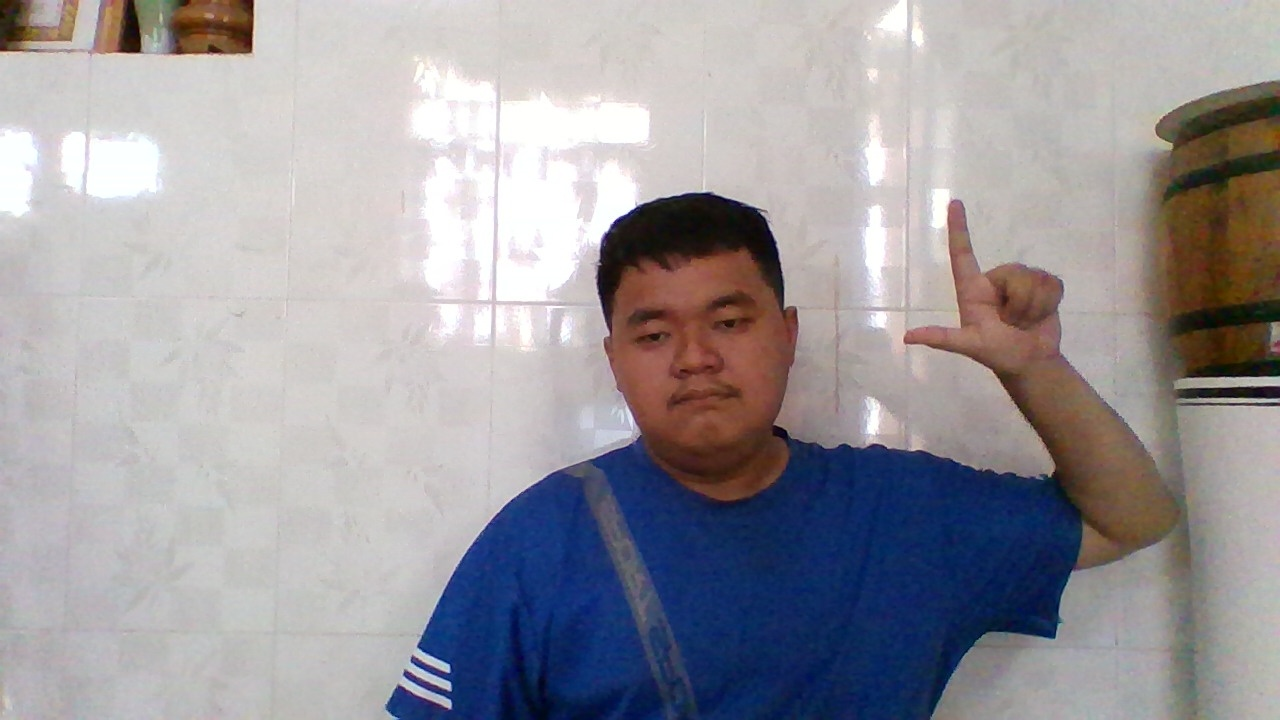L: (895, 189, 1070, 380)
